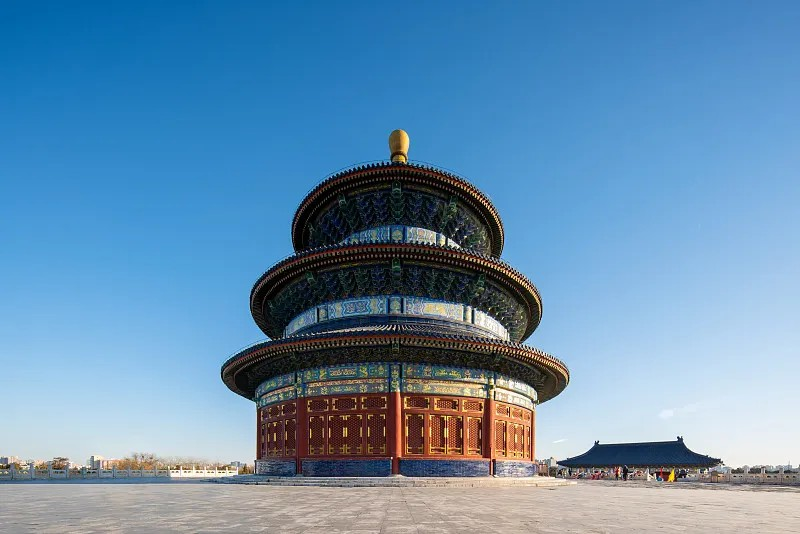Heaven: (220, 128, 571, 474)
